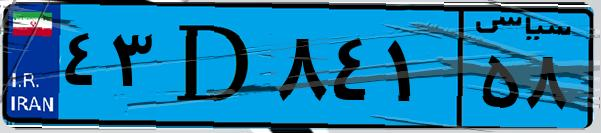1: (385, 28, 445, 110)
3: (110, 28, 158, 98)
4: (330, 28, 385, 110), (57, 26, 110, 100)
5: (475, 38, 525, 113)
8: (270, 28, 330, 110), (525, 38, 570, 115)
D: (158, 12, 270, 120)
